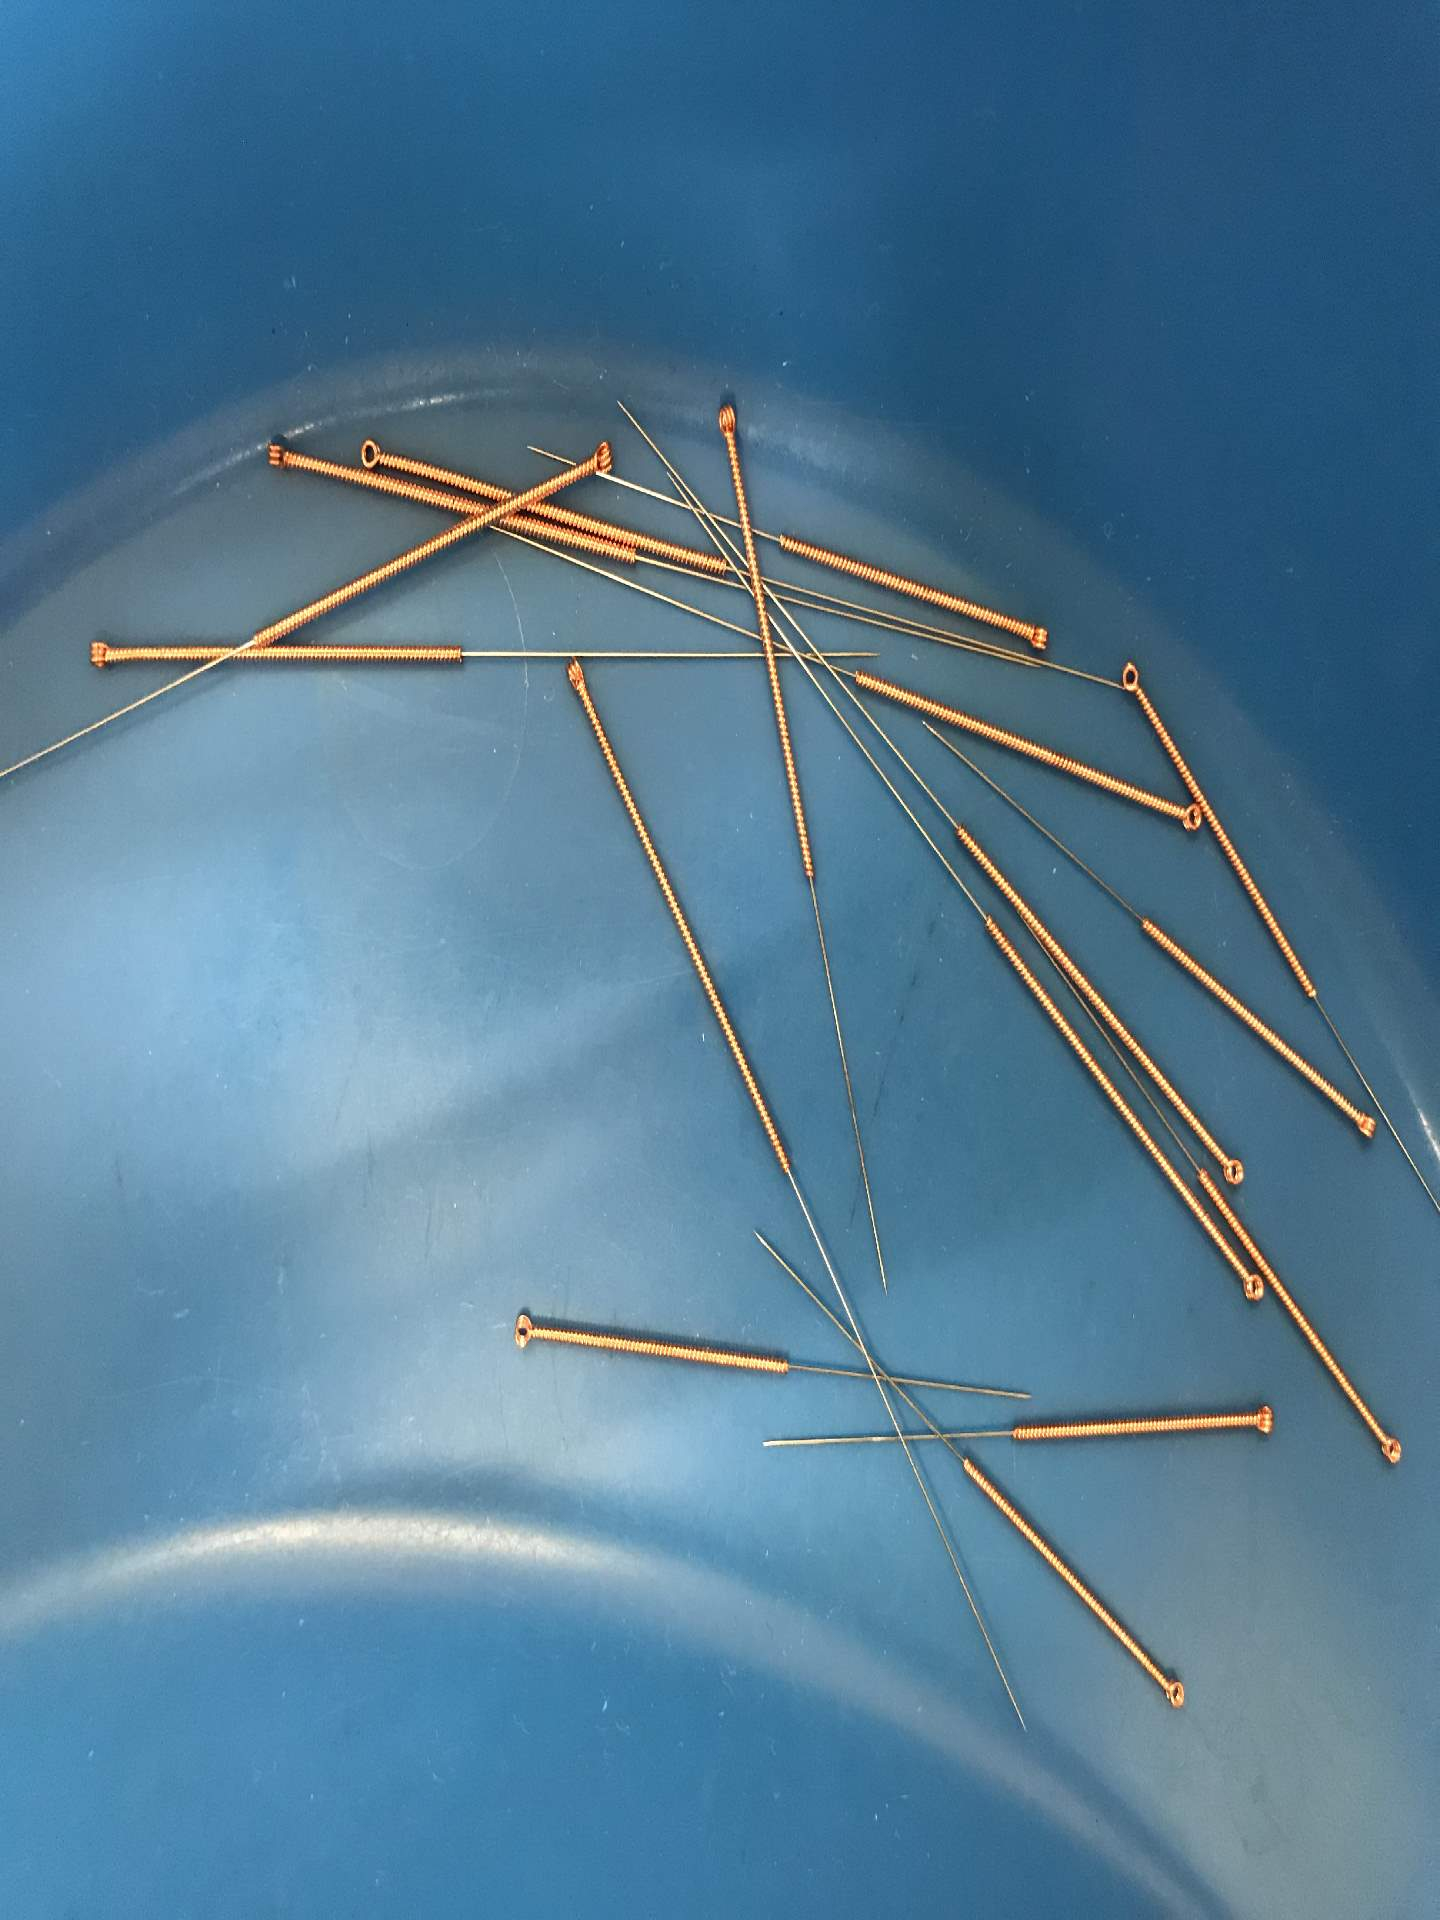needle: (703, 395, 749, 454), (74, 630, 127, 677), (1234, 1397, 1286, 1444), (251, 432, 303, 478), (502, 1305, 548, 1356), (1154, 1668, 1196, 1720), (1370, 1423, 1411, 1477), (1345, 1101, 1386, 1154), (1016, 612, 1060, 661), (557, 656, 594, 711), (579, 435, 625, 478), (1113, 653, 1150, 706), (349, 432, 396, 472), (1215, 1144, 1252, 1193), (1168, 800, 1206, 841), (1234, 1268, 1268, 1311)
